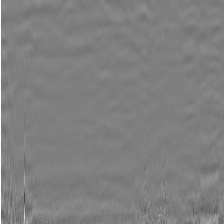cavities: (0, 53, 191, 155)
